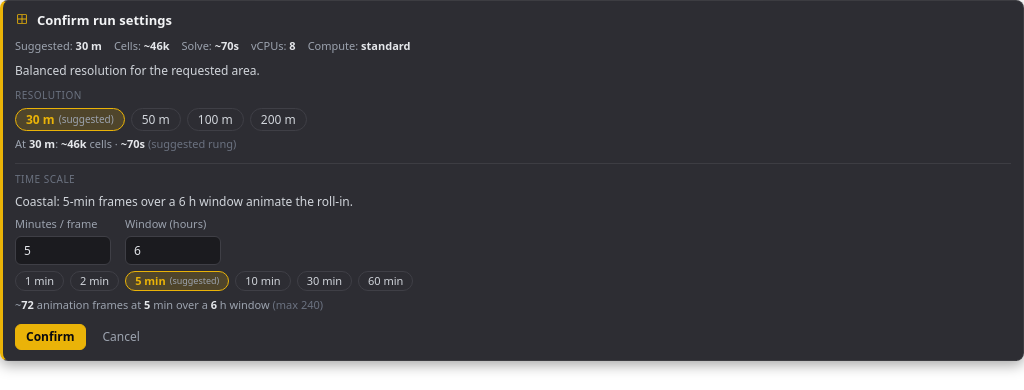
Test case: ResolutionPickerCard - combined run-settings (time scale) › folds to the run-settings summary after a combined decision
Click the button with test id "resolution-picker-confirm".
click(50, 337)  # box [15, 324, 86, 350]
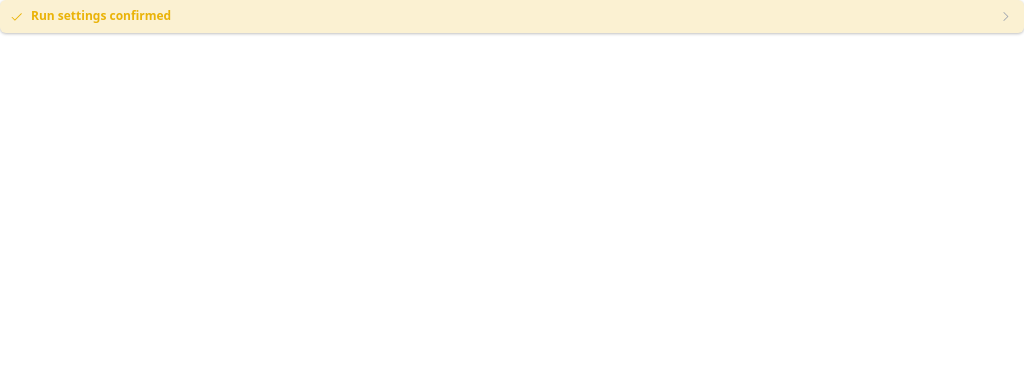
Result: the text with test id "resolution-picker-resolved" reads "Run settings confirmed" at [31, 7, 171, 24]
